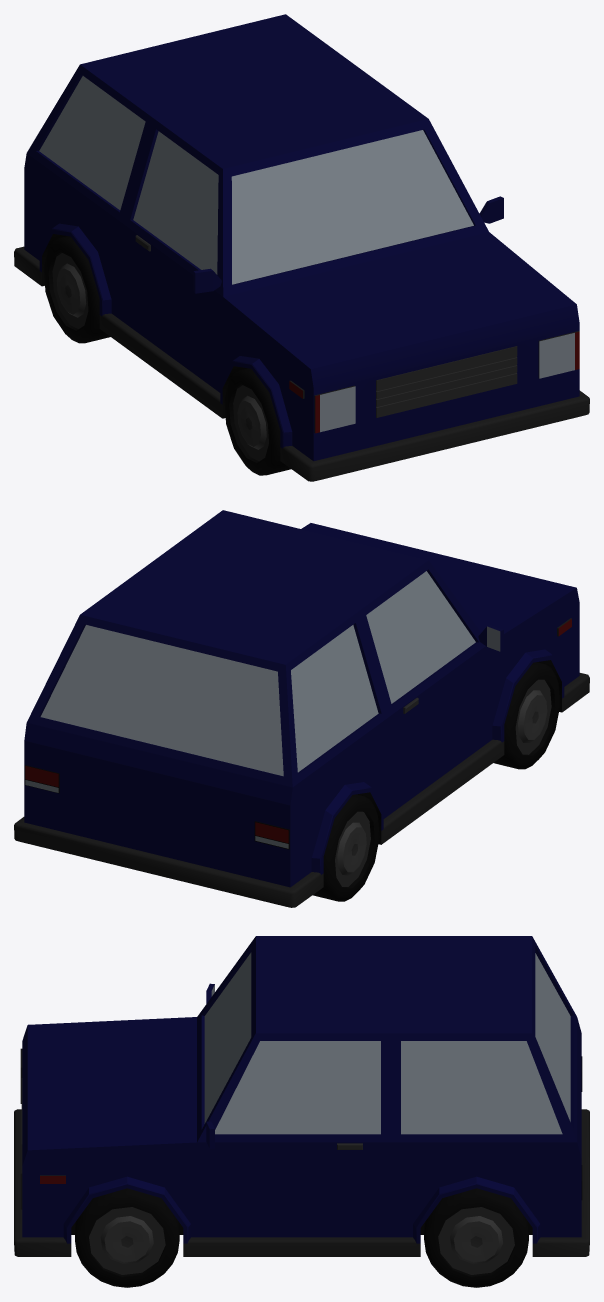
File: Microcar_Blue.fbx
The picture shows the model from 3 angles, top to bottom: view 1: azimuth 30°, elevation 25°; view 2: azimuth 150°, elevation 25°; view 3: azimuth 270°, elevation 25°; orthographic projection. The views are drawn at different scales.
Parts seen in each view (by area): view 1: Microcar_Blue; view 2: Microcar_Blue; view 3: Microcar_Blue.
Boxes of the visible parts, x1,y1,x2,y2 form: Microcar_Blue: [14, 14, 589, 481]; Microcar_Blue: [14, 510, 589, 907]; Microcar_Blue: [14, 936, 589, 1287].
Bounding box in the file's own units: 197 × 150 × 330.
